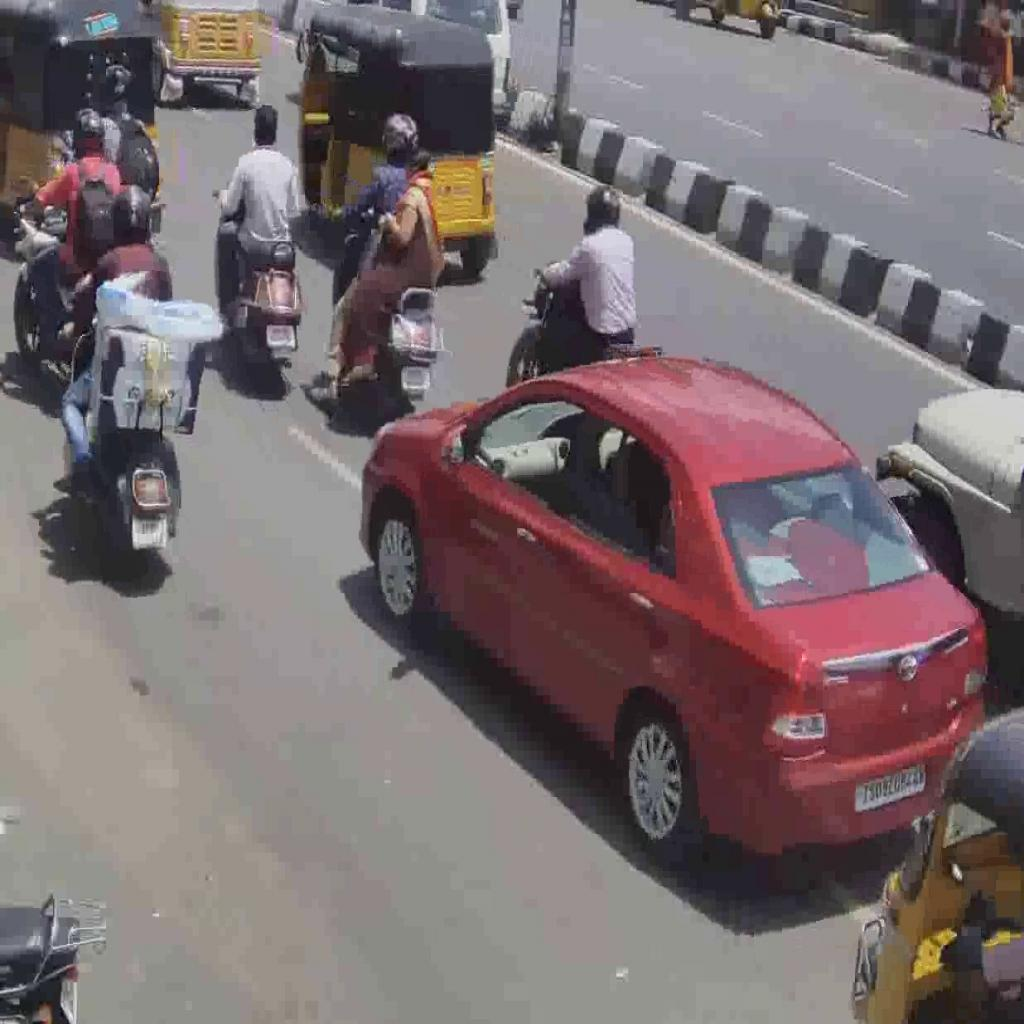bike: (63, 315, 183, 581), (331, 201, 443, 417), (12, 180, 134, 372), (506, 258, 665, 388), (212, 177, 304, 389)
helmet: (109, 183, 153, 248), (70, 104, 108, 166), (378, 109, 419, 164), (582, 183, 622, 235)
lisc: (132, 512, 166, 549), (401, 366, 430, 393), (266, 323, 295, 349)
no_helmet: (401, 144, 437, 190), (250, 103, 282, 153)
rider: (62, 184, 174, 492), (335, 144, 443, 370), (29, 105, 120, 353), (337, 109, 419, 360), (212, 104, 302, 329), (535, 184, 637, 358)
